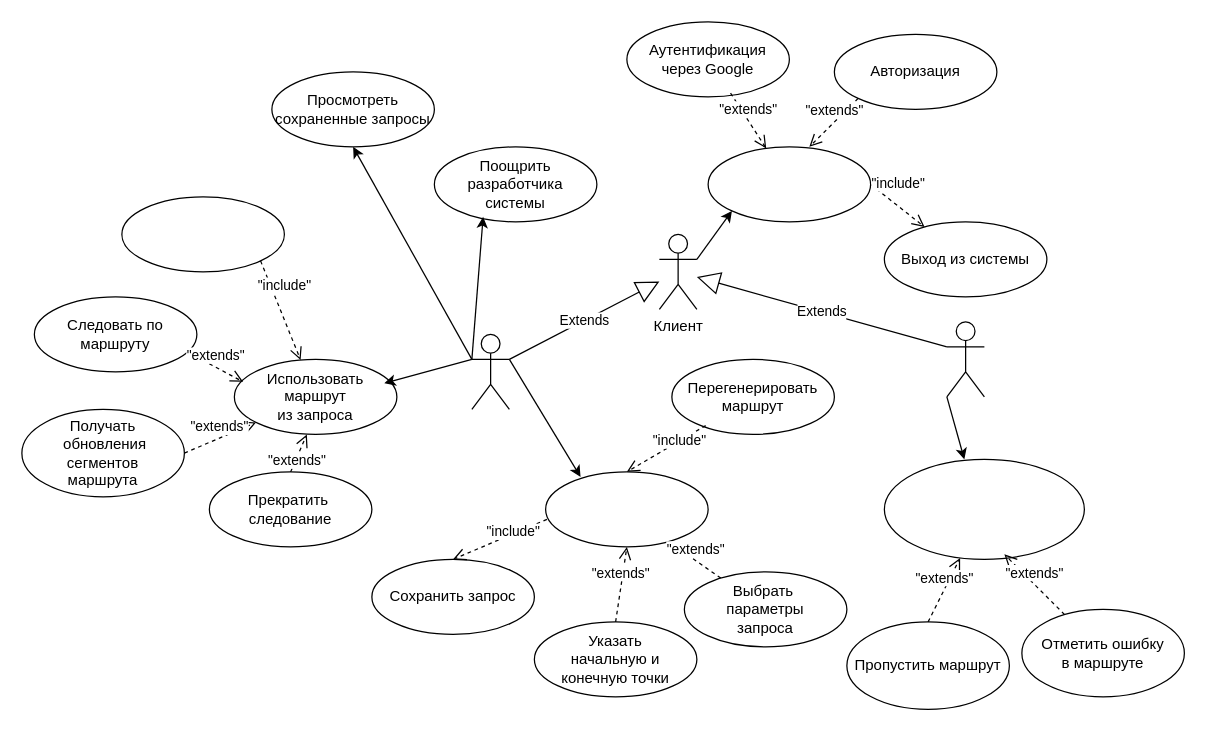
The diagram is 1206 pixels wide and 731 high, and some of its shapes have lost their labels. The centre of each missing label's shape, as x and y in pixels:
"Администратор" goes at point (965, 359).
"Отменить маршрут" goes at point (202, 234).
"Пользователь" goes at point (490, 371).
"Просмотр маршрута по пользовательскому запросу" goes at point (983, 508).
"Создать запрос" goes at point (626, 509).
"Управлять аккаунтом" goes at point (789, 184).
